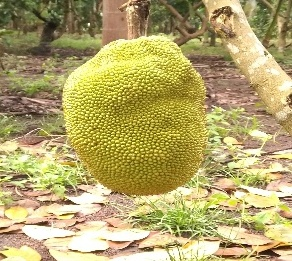Mit: (63, 33, 210, 194)
